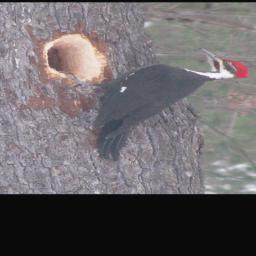Woodpecker: (57, 49, 254, 162)
